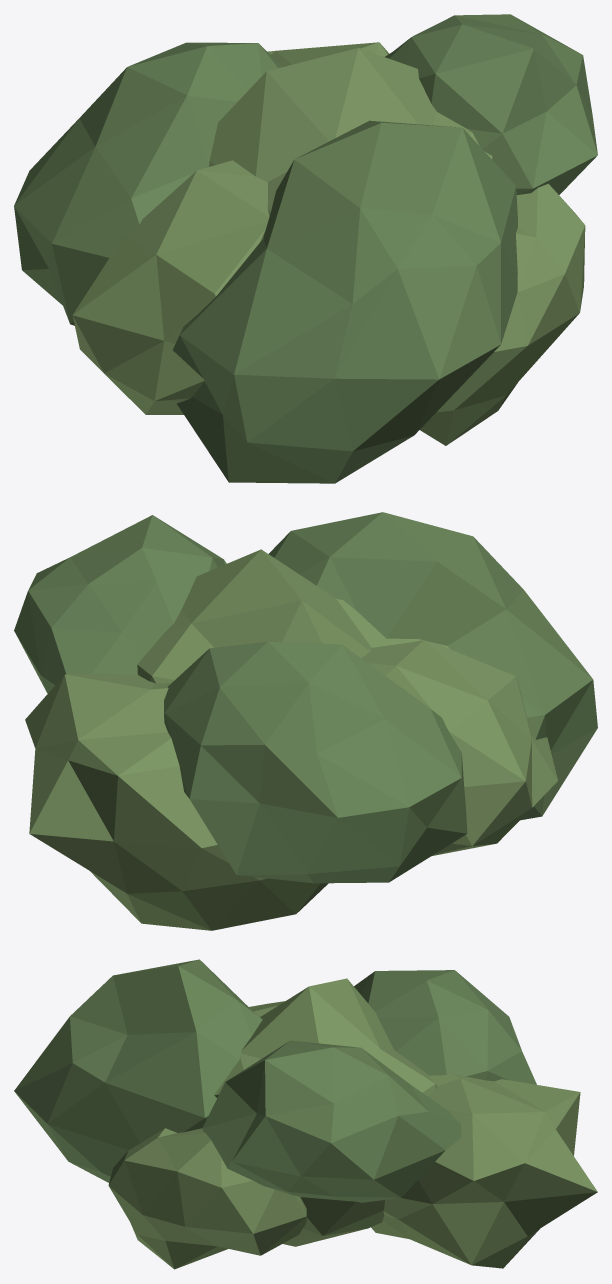
File: SM_Bush_B.fbx
3 views of the same model, one above another, from view 1: azimuth 30°, elevation 25°; view 2: azimuth 150°, elevation 25°; view 3: azimuth 270°, elevation 25° (orthographic). The views are drawn at different scales.
Visible parts, largest first — view 1: SM_Bush_B; view 2: SM_Bush_B; view 3: SM_Bush_B.
Boxes of the visible parts, x1,y1,x2,y2 form: SM_Bush_B: (14, 14, 597, 483); SM_Bush_B: (14, 512, 597, 930); SM_Bush_B: (14, 959, 597, 1269).
Size of the model in its own units: 1.74 by 1.1 by 2.03.
